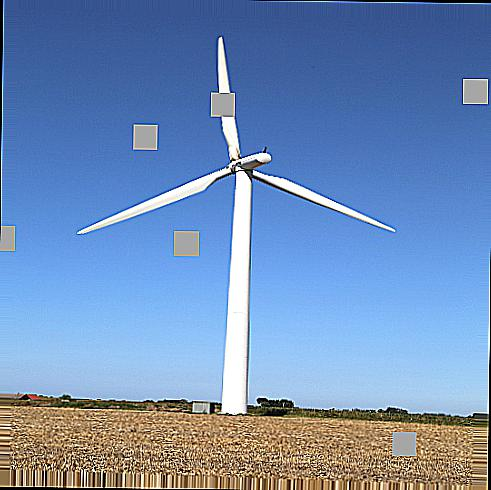wind turbine: (77, 35, 398, 416)
